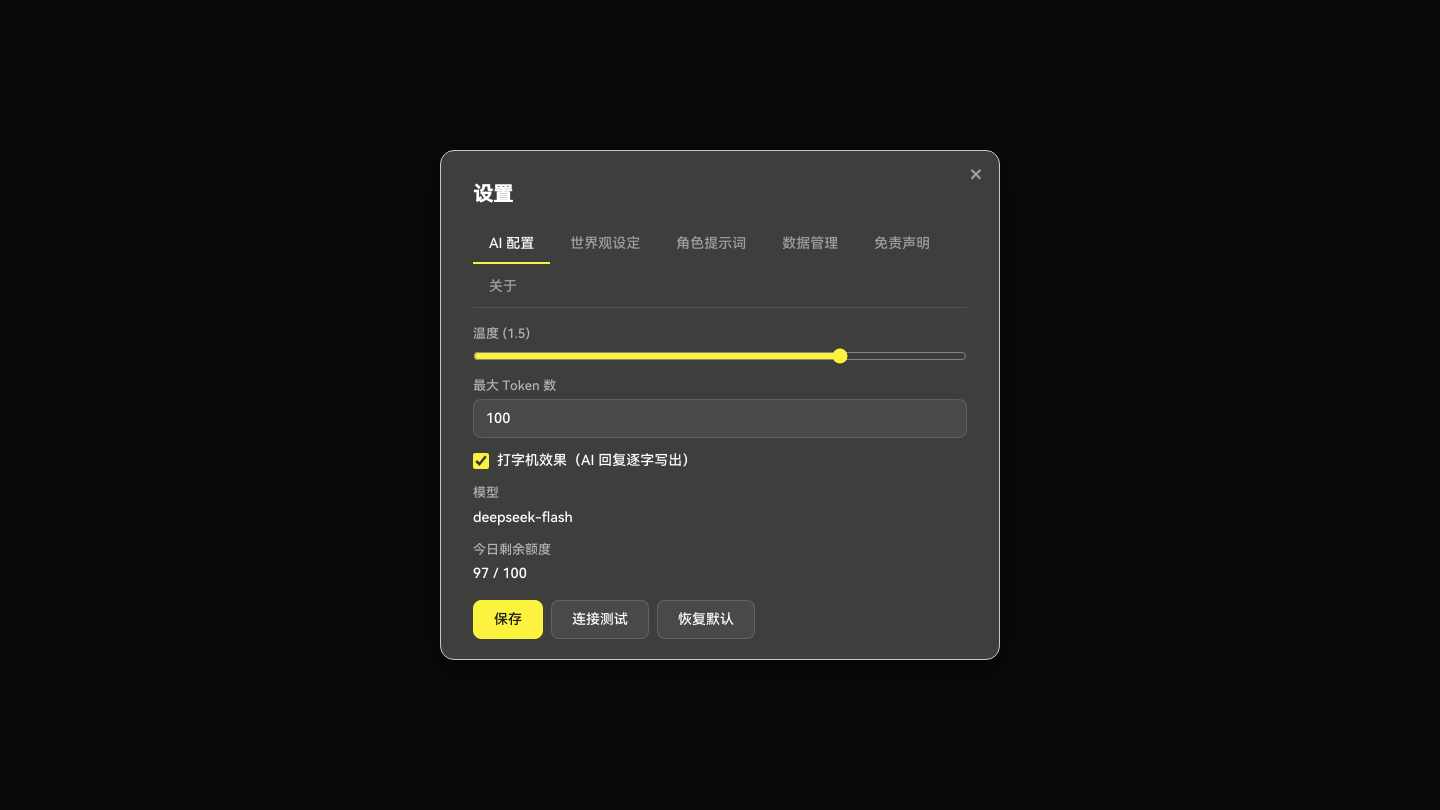
Test: SettingsDialog › 恢复默认时 PATCH 0.8 / 2048
Click the button "恢复默认": {"x": 706, "y": 620} [657,600,755,639]
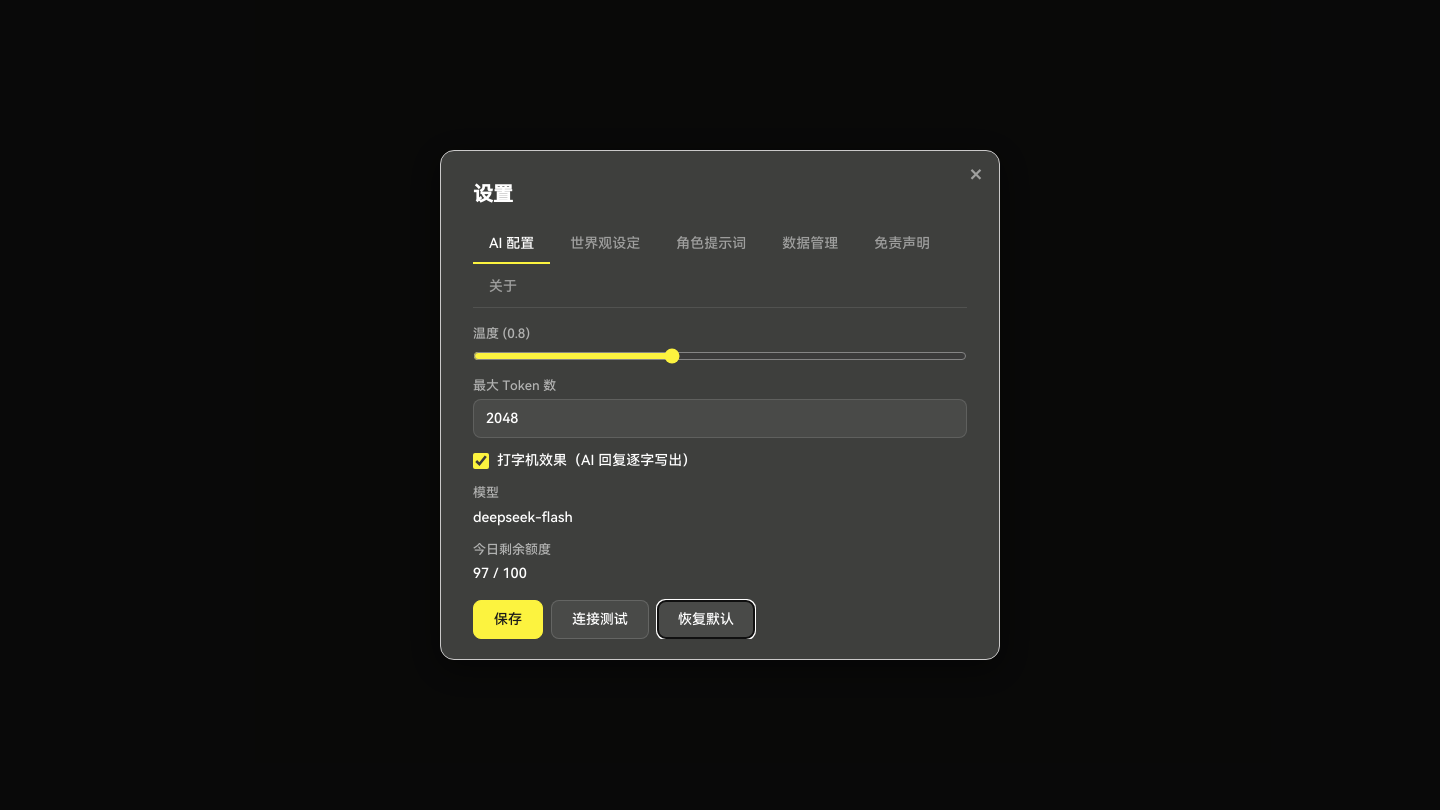
Check: the slider labelled "温度 (0.8)" is shown, box [473,348,967,364]
Check: the number field labelled "最大 Token 数" holds "2048", box [473,399,967,438]
